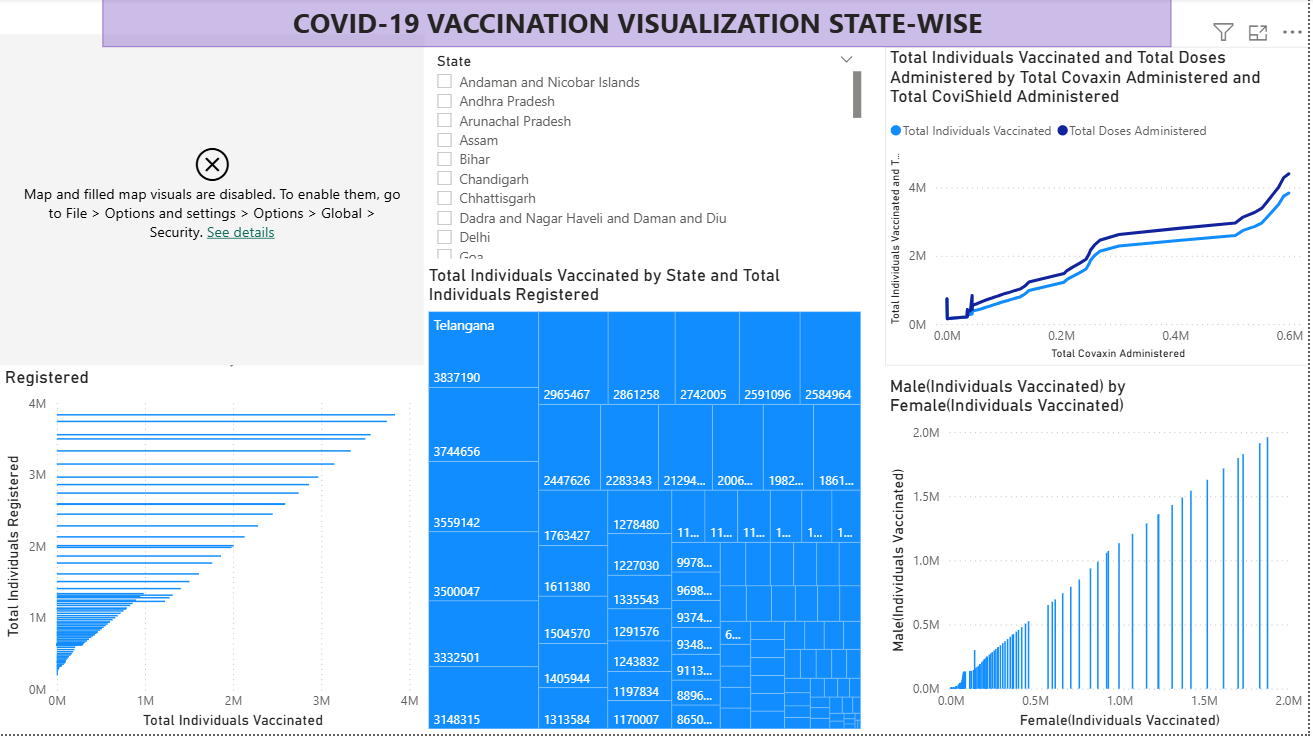

The dashboard page shown, as its layout file describes it:
{"tool":"powerbi","page":{"name":"Covid-19 Vaccine ","canvas":[1280,720],"ordinal":0},"visuals":[{"type":"barChart","fields":{"Category":["covid_vaccine_statewise.Total Individuals Registered"],"Y":["Sum(covid_vaccine_statewise.Total Individuals Vaccinated)"]},"box":[0,340.8,414.7,378.7],"z":0},{"type":"map","fields":{"Category":["covid_vaccine_statewise.State"]},"box":[0,35.1,415.1,324.1],"z":1000},{"type":"columnChart","fields":{"Category":["covid_vaccine_statewise.Female(Individuals Vaccinated)"],"Y":["Sum(covid_vaccine_statewise.Male(Individuals Vaccinated))"]},"box":[865.3,369.2,414.7,350.3],"z":2000},{"type":"lineStackedColumnComboChart","fields":{"Category":["covid_vaccine_statewise.Total Covaxin Administered"],"Series":["covid_vaccine_statewise.Total CoviShield Administered"],"Y2":["Sum(covid_vaccine_statewise.Total Individuals Vaccinated)","Sum(covid_vaccine_statewise.Total Doses Administered)"]},"box":[865.3,47.9,415.1,311.3],"z":3000},{"type":"treemap","fields":{"Group":["covid_vaccine_statewise.State"],"Values":["Sum(covid_vaccine_statewise.Total Individuals Vaccinated)"],"Details":["covid_vaccine_statewise.Total Individuals Registered"]},"box":[415.1,260.2,432.6,459.8],"z":4000},{"type":"slicer","fields":{"Values":["covid_vaccine_statewise.State"]},"box":[415.1,47.9,432.6,212.3],"z":5000},{"type":"textbox","box":[100.6,0,1045.7,47.9],"z":6000}]}

Visuals, with their boxes in screenshot pixels (x1, y1, x2, y2), scaled from the page's 1280x720 canvas onto the 1313x739 screenshot:
barChart - covid_vaccine_statewise.Total Individuals Registered x Sum(covid_vaccine_statewise.Total Individuals Vaccinated): BBox(0, 350, 425, 738)
map - covid_vaccine_statewise.State: BBox(0, 36, 426, 369)
columnChart - covid_vaccine_statewise.Female(Individuals Vaccinated) x Sum(covid_vaccine_statewise.Male(Individuals Vaccinated)): BBox(888, 379, 1312, 738)
lineStackedColumnComboChart - covid_vaccine_statewise.Total Covaxin Administered x covid_vaccine_statewise.Total CoviShield Administered: BBox(888, 49, 1312, 369)
treemap - covid_vaccine_statewise.State x Sum(covid_vaccine_statewise.Total Individuals Vaccinated): BBox(426, 267, 870, 738)
slicer - covid_vaccine_statewise.State: BBox(426, 49, 870, 267)
textbox: BBox(103, 0, 1176, 49)
